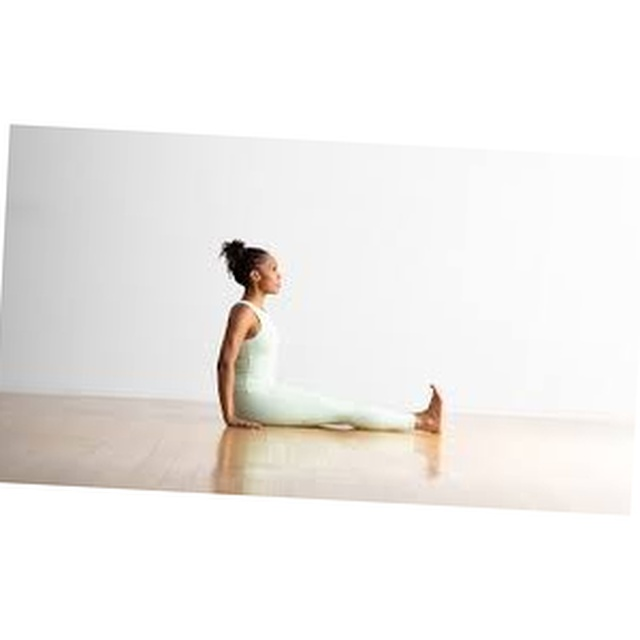Staff_Pose: (216, 239, 444, 439)
